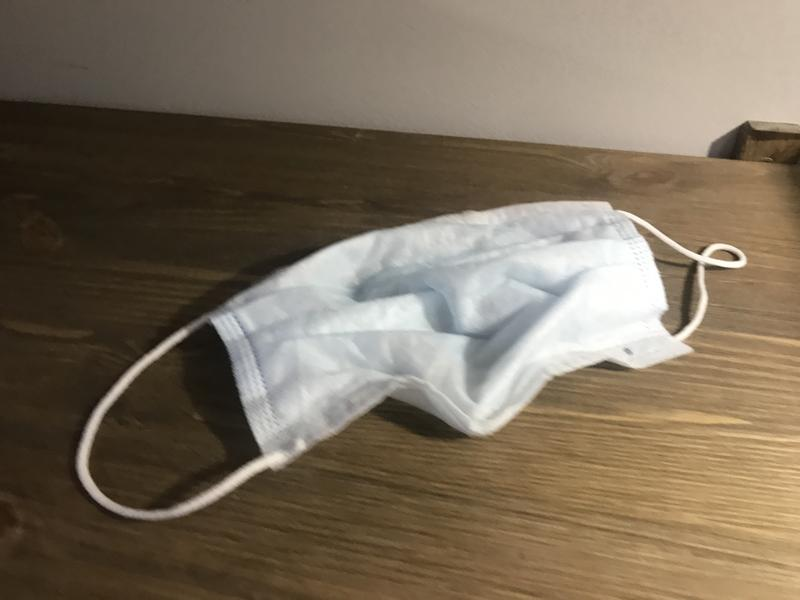medical_mask: (75, 199, 746, 520)
